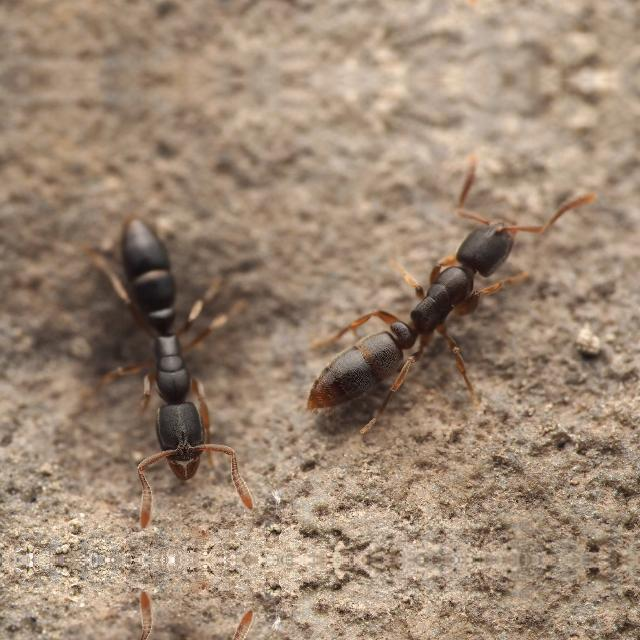Ponera: (284, 169, 590, 435), (77, 175, 275, 535)
